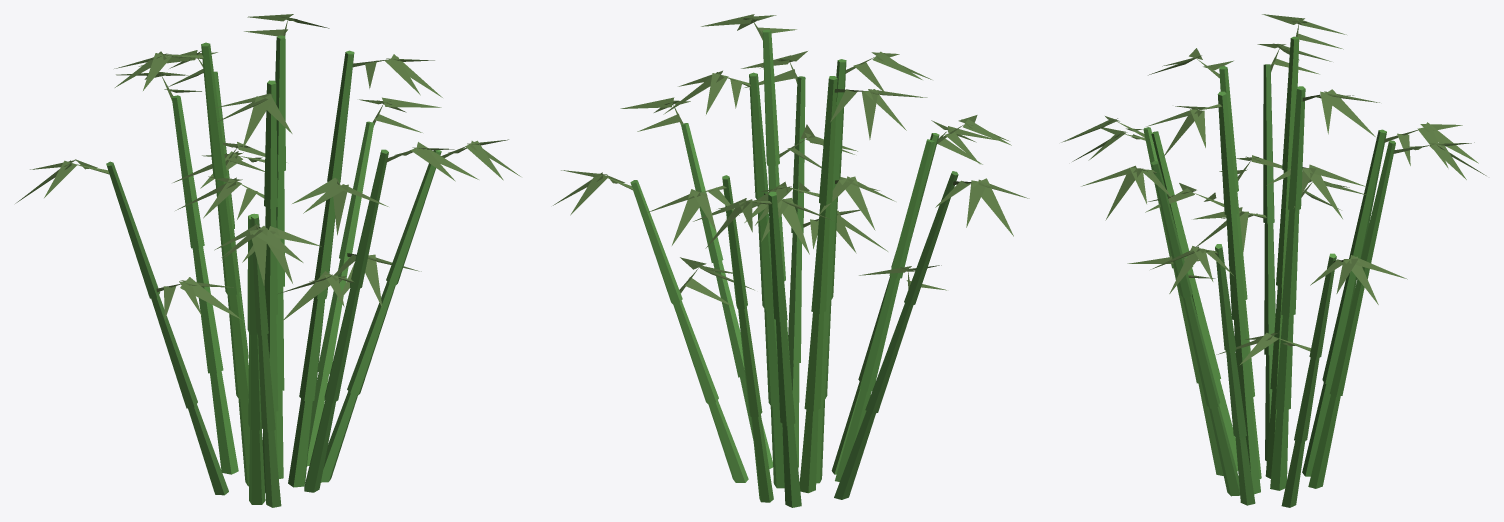
File: bamboo-grove-clump-7c747d.glb
The picture shows the model from 3 angles, left to right: view 1: azimuth 30°, elevation 25°; view 2: azimuth 150°, elevation 25°; view 3: azimuth 270°, elevation 25°; orthographic projection. The views are drawn at different scales.
Visible parts, largest first — view 1: bamboo-grove-clump-7c747d; view 2: bamboo-grove-clump-7c747d; view 3: bamboo-grove-clump-7c747d.
Boxes of the visible parts, x1,y1,x2,y2 form: bamboo-grove-clump-7c747d: (15,14,520,507); bamboo-grove-clump-7c747d: (553,14,1029,507); bamboo-grove-clump-7c747d: (1061,14,1486,507).
Size of the model in its own units: 6.41 by 5.97 by 5.54.
